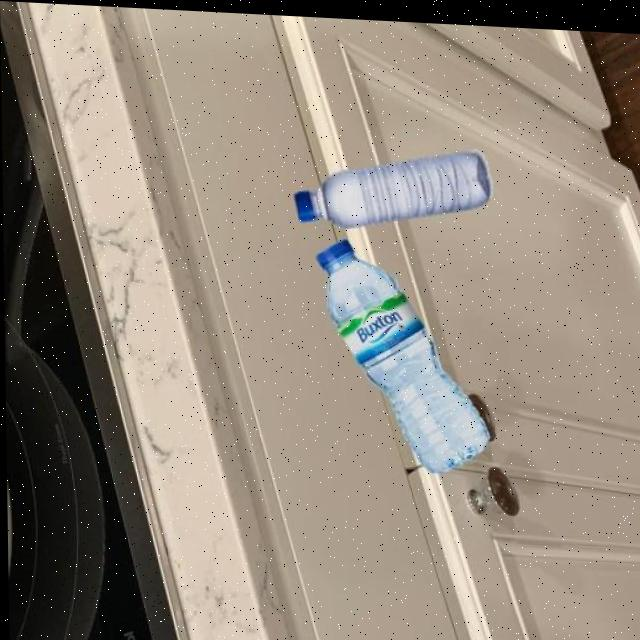bottle: (312, 234, 494, 472), (290, 135, 491, 231)
